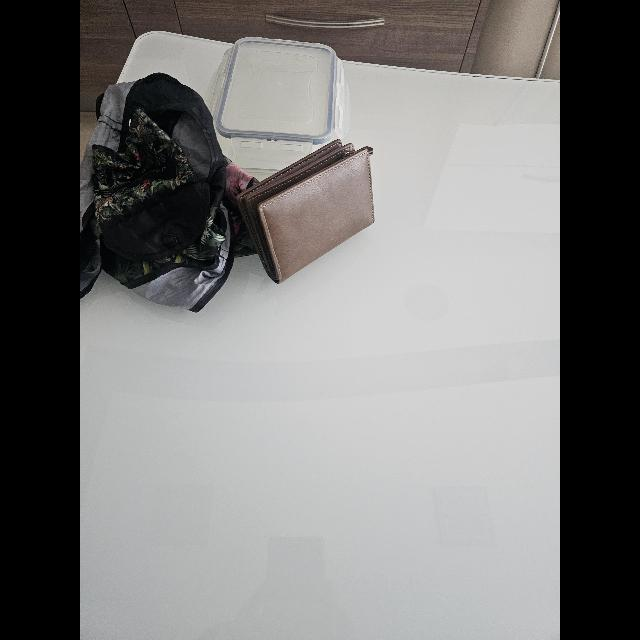Wallet: (233, 140, 375, 284)
